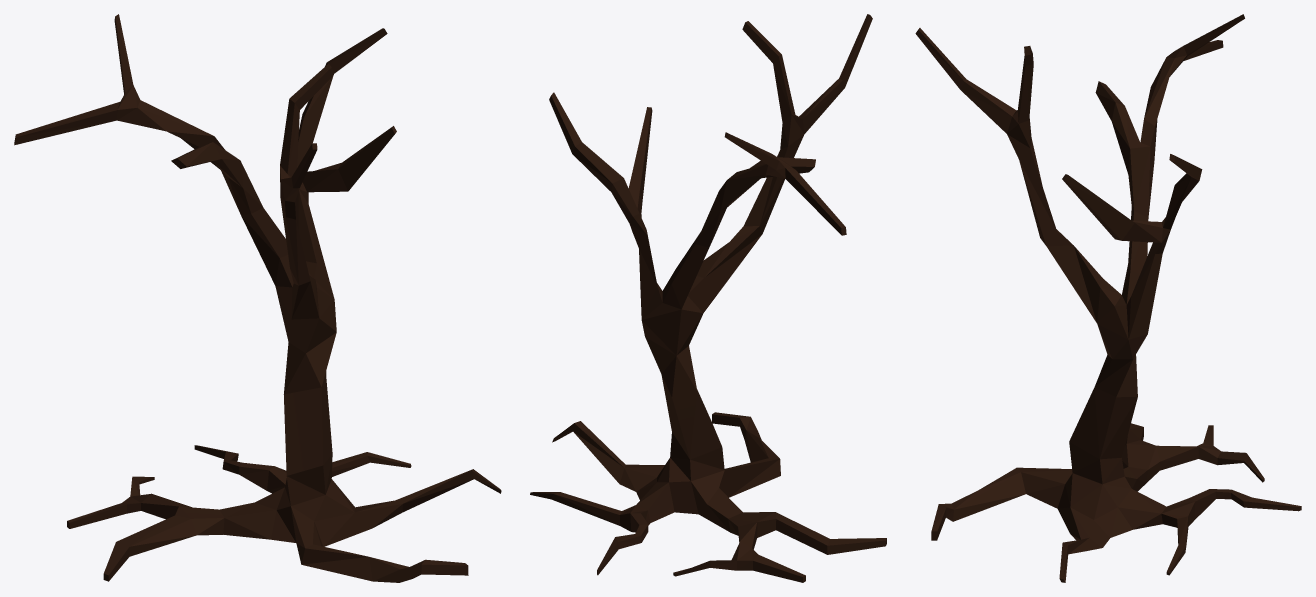
The model's file is Tree Witchered_4.fbx.
3 renders of one model, left to right at view 1: azimuth 30°, elevation 25°; view 2: azimuth 150°, elevation 25°; view 3: azimuth 270°, elevation 25°, orthographic. The views are drawn at different scales.
Parts seen in each view (by area): view 1: Tree Witchered_4; view 2: Tree Witchered_4; view 3: Tree Witchered_4.
Boxes of the visible parts, x1,y1,x2,y2 form: Tree Witchered_4: (14,14,501,582); Tree Witchered_4: (530,14,886,582); Tree Witchered_4: (915,14,1301,582).
Bounding box in the file's own units: 4.57 × 5.38 × 4.11.
